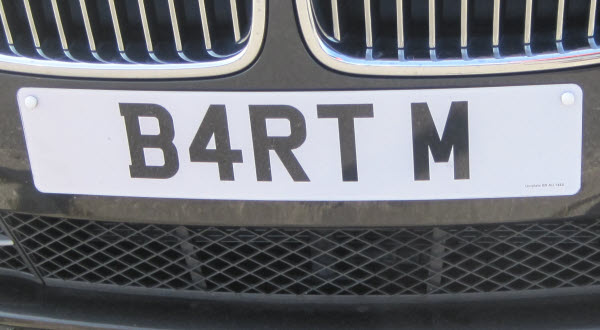license_plate: (14, 83, 582, 202)
